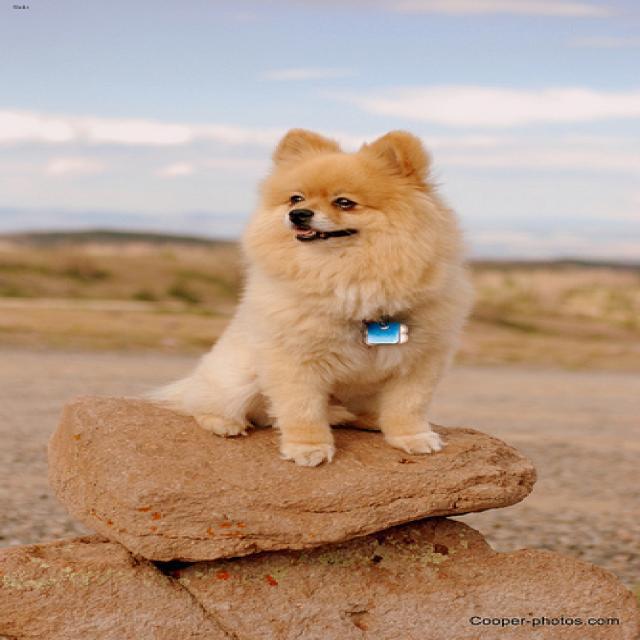dog-pomeranian: (105, 115, 492, 479)
